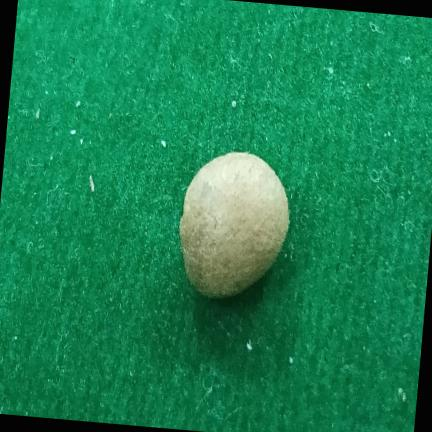good: (180, 152, 289, 298)
